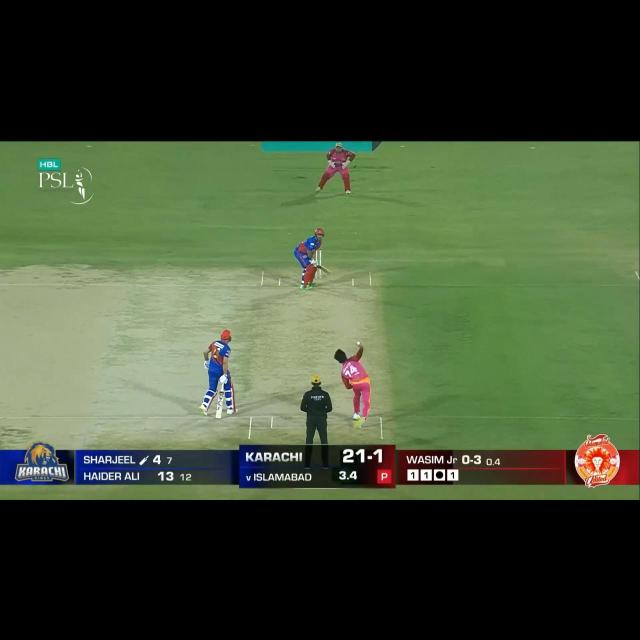bat: (214, 391, 225, 419), (315, 264, 332, 275)
toe: (214, 411, 223, 419), (326, 270, 332, 275)
